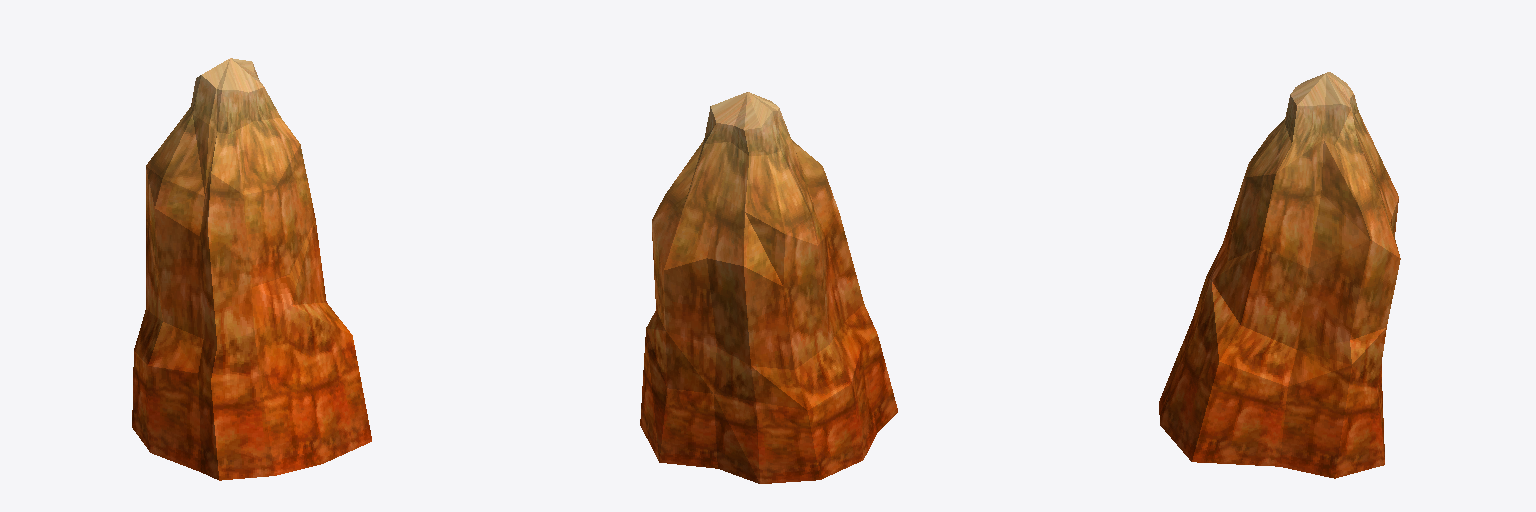
3 renders of one model, left to right at view 1: azimuth 30°, elevation 25°; view 2: azimuth 150°, elevation 25°; view 3: azimuth 270°, elevation 25°, orthographic.
Parts seen in each view (by area): view 1: DurotarRock07; view 2: DurotarRock07; view 3: DurotarRock07.
Part boxes in pixels (left/top/right/bottom): DurotarRock07: left=132, top=58, right=371, bottom=480; DurotarRock07: left=640, top=92, right=897, bottom=483; DurotarRock07: left=1159, top=72, right=1400, bottom=478.
Size of the model in its own units: 11.78 by 20.37 by 12.27.
Materials: 1 (1 with a texture image).